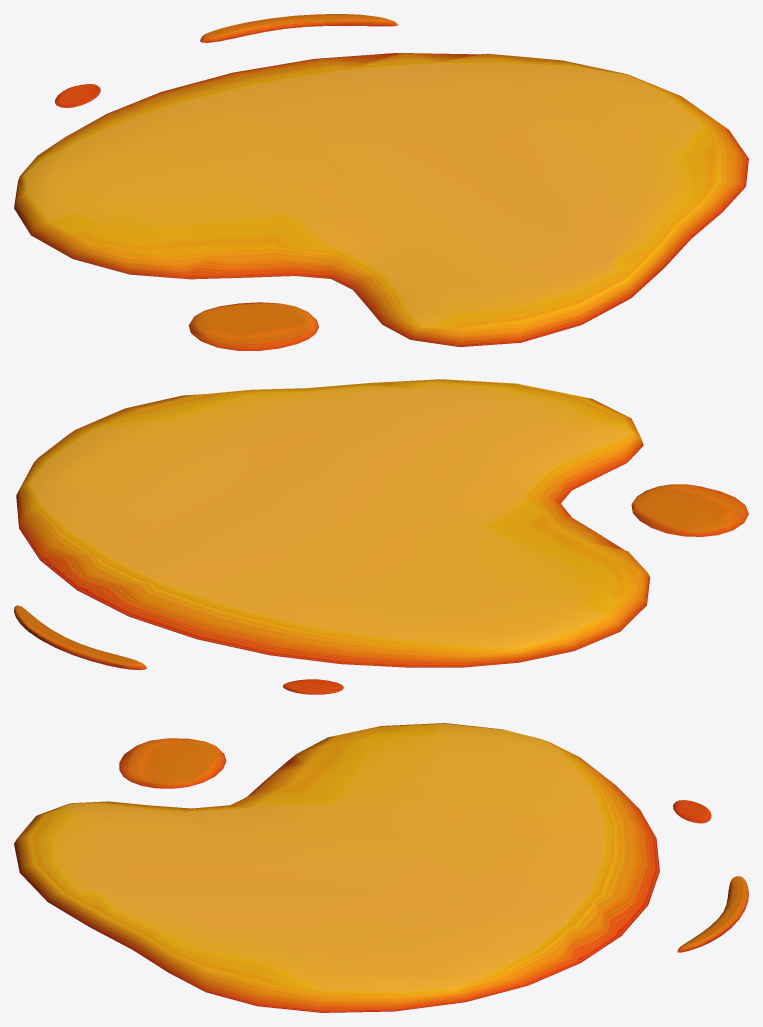
Rendered from StickyPatchBB.glb.
3 views of the same model, one above another, from view 1: azimuth 30°, elevation 25°; view 2: azimuth 150°, elevation 25°; view 3: azimuth 270°, elevation 25° (orthographic). The views are drawn at different scales.
Parts seen in each view (by area): view 1: StickyPatch.001; view 2: StickyPatch.001; view 3: StickyPatch.001.
Part boxes in pixels (left/top/right/bottom): StickyPatch.001: left=14, top=14, right=748, bottom=350; StickyPatch.001: left=14, top=379, right=748, bottom=694; StickyPatch.001: left=14, top=723, right=748, bottom=1012.
Bounding box in the file's own units: 1.62 × 0.0475 × 1.76.
1 material, 1 textured.
